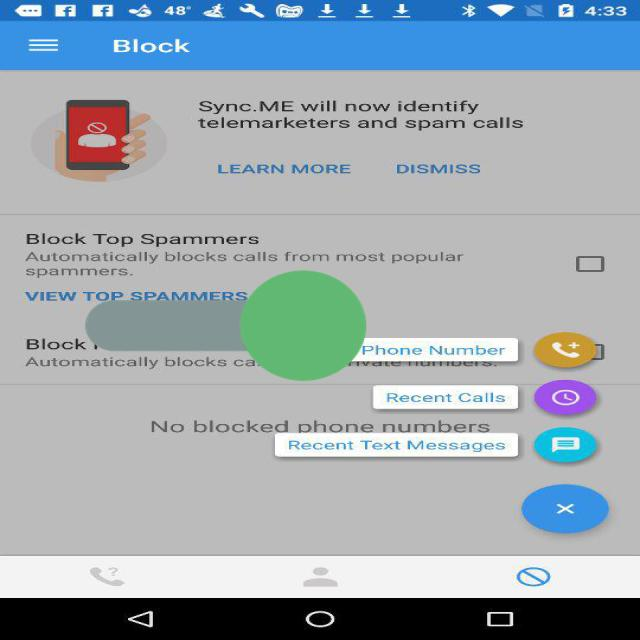social proof: (86, 202, 367, 448)
